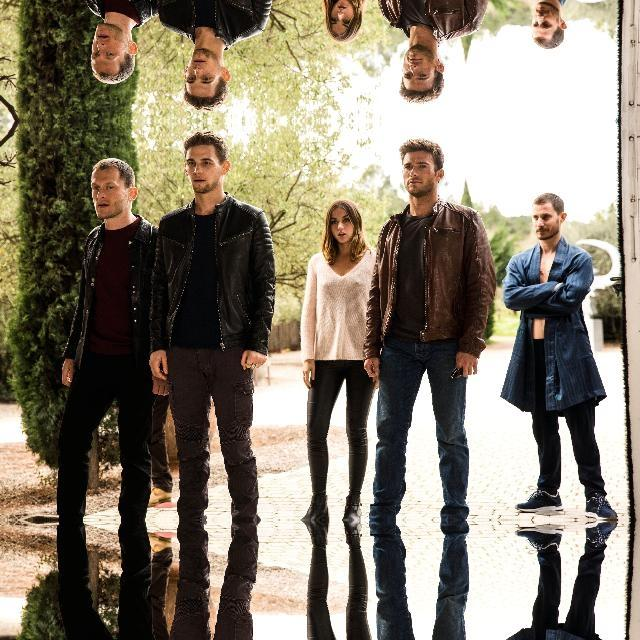person: (382, 132, 501, 500), (152, 132, 268, 398), (295, 201, 379, 467), (505, 194, 599, 396), (56, 132, 146, 286), (381, 0, 500, 107), (152, 0, 267, 108), (381, 539, 500, 640), (56, 0, 146, 107), (295, 571, 379, 640), (505, 0, 599, 45), (295, 0, 379, 39)
